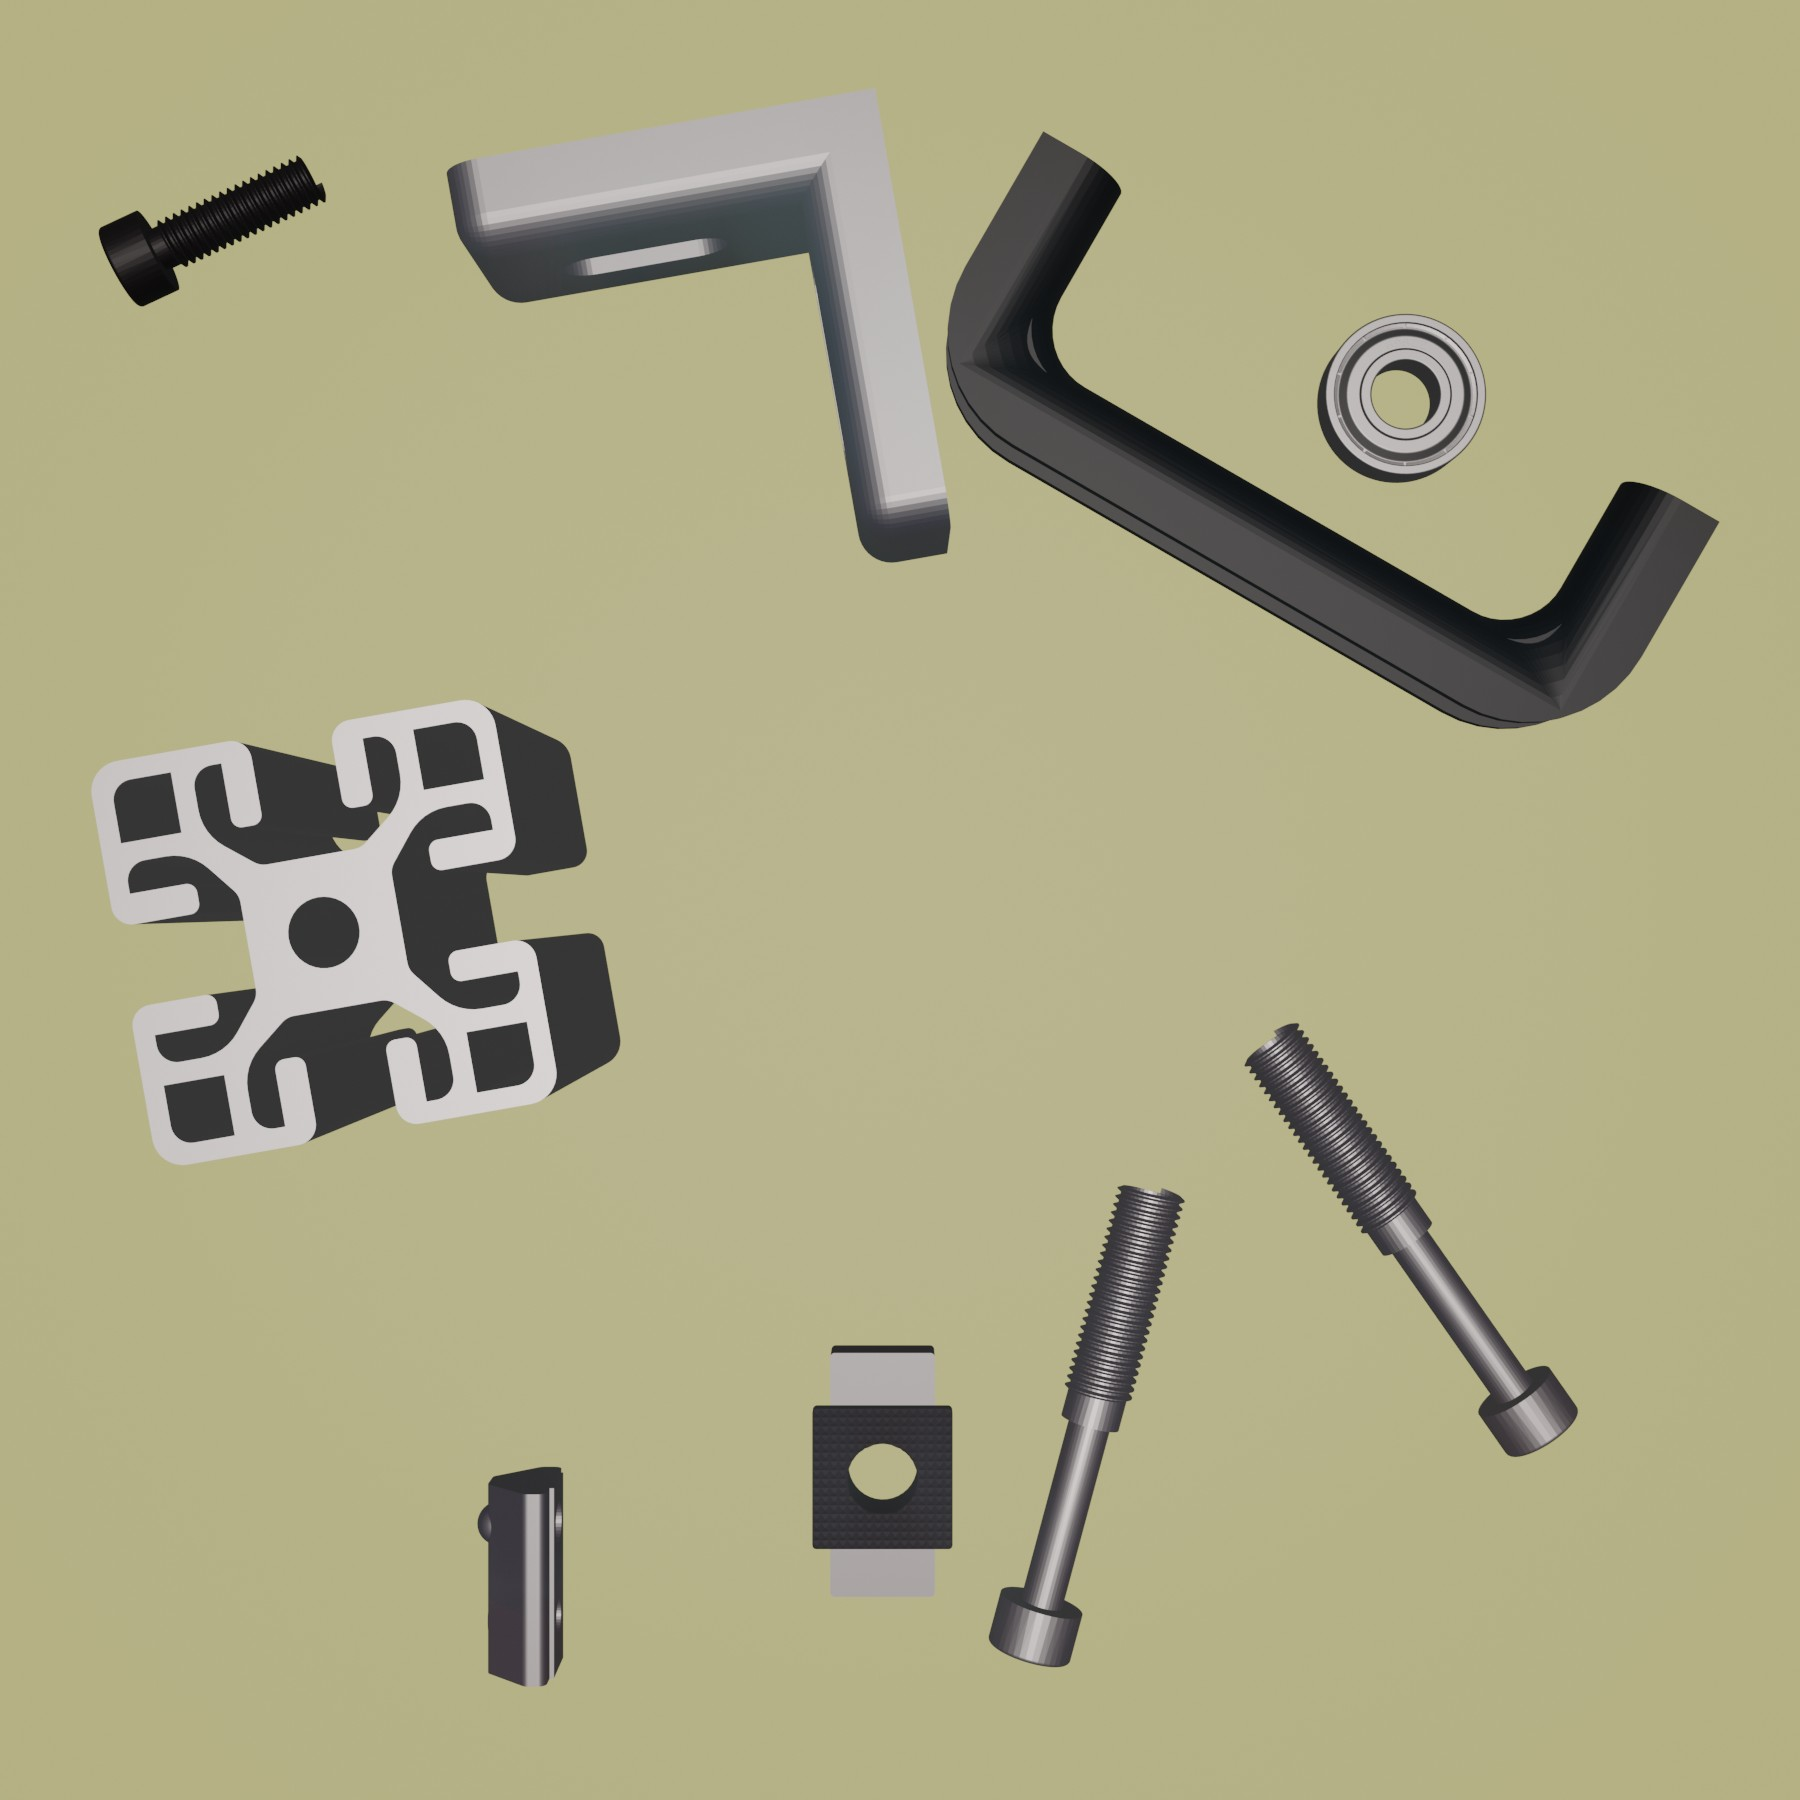Aluminium Extension: (87, 696, 623, 1172)
Ball Bearing: (1315, 312, 1488, 486)
Multiwinkel: (442, 89, 953, 565)
Pull Handle: (946, 125, 1721, 732)
Shoulder Socket Head Cap Screw: (1240, 1019, 1579, 1459), (986, 1180, 1188, 1670)
Socket Head Cap Screw: (96, 152, 330, 312)
T Nut Square: (804, 1338, 958, 1601)
T Spring Nut: (475, 1459, 567, 1691)
